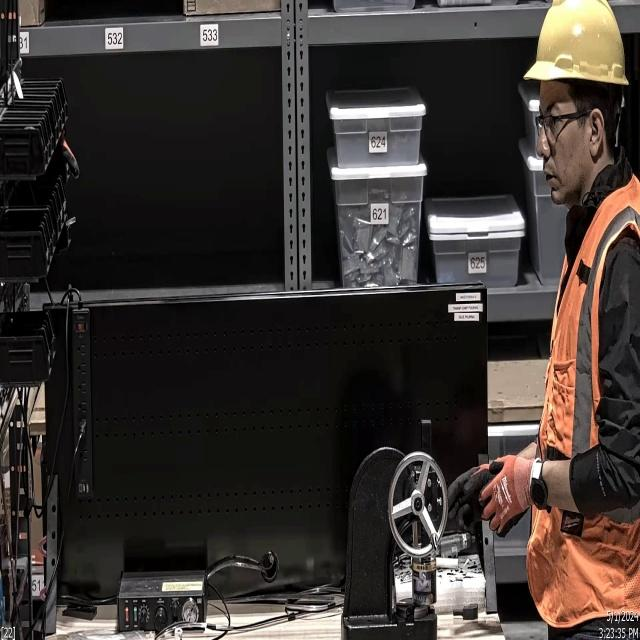construction-gloves: (474, 456, 532, 540)
